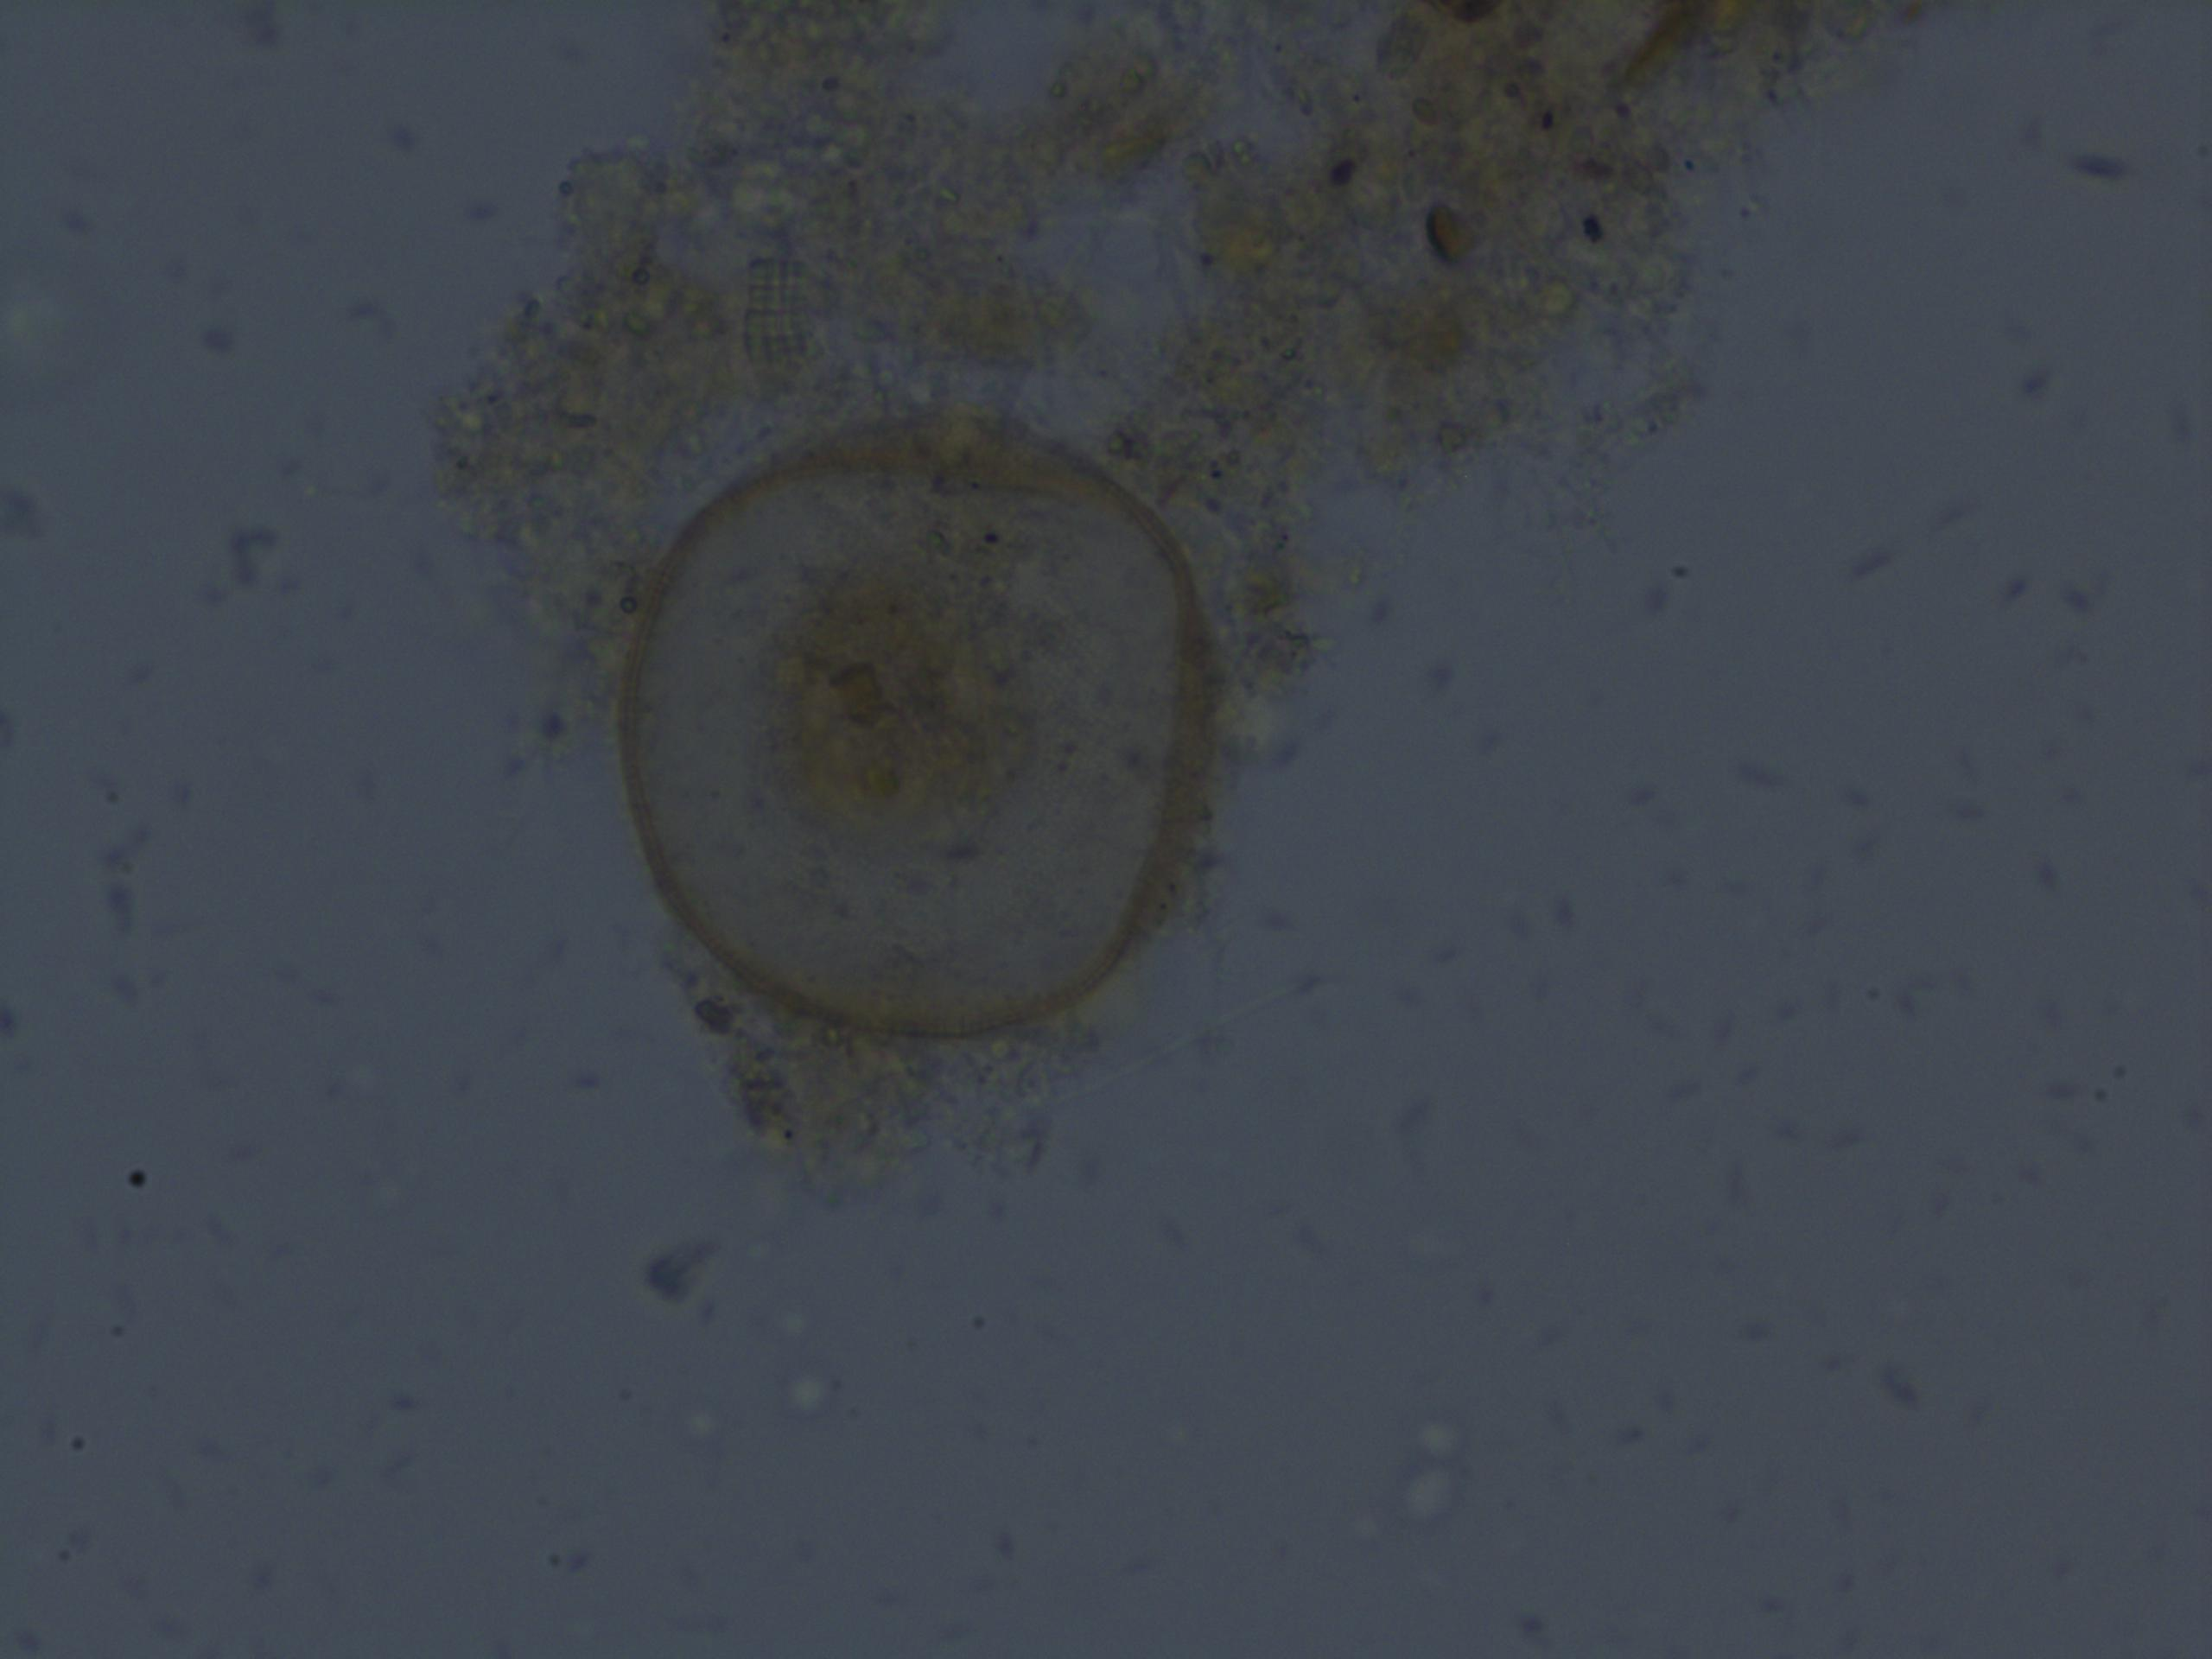protozoa: (611, 399, 1238, 1046)
